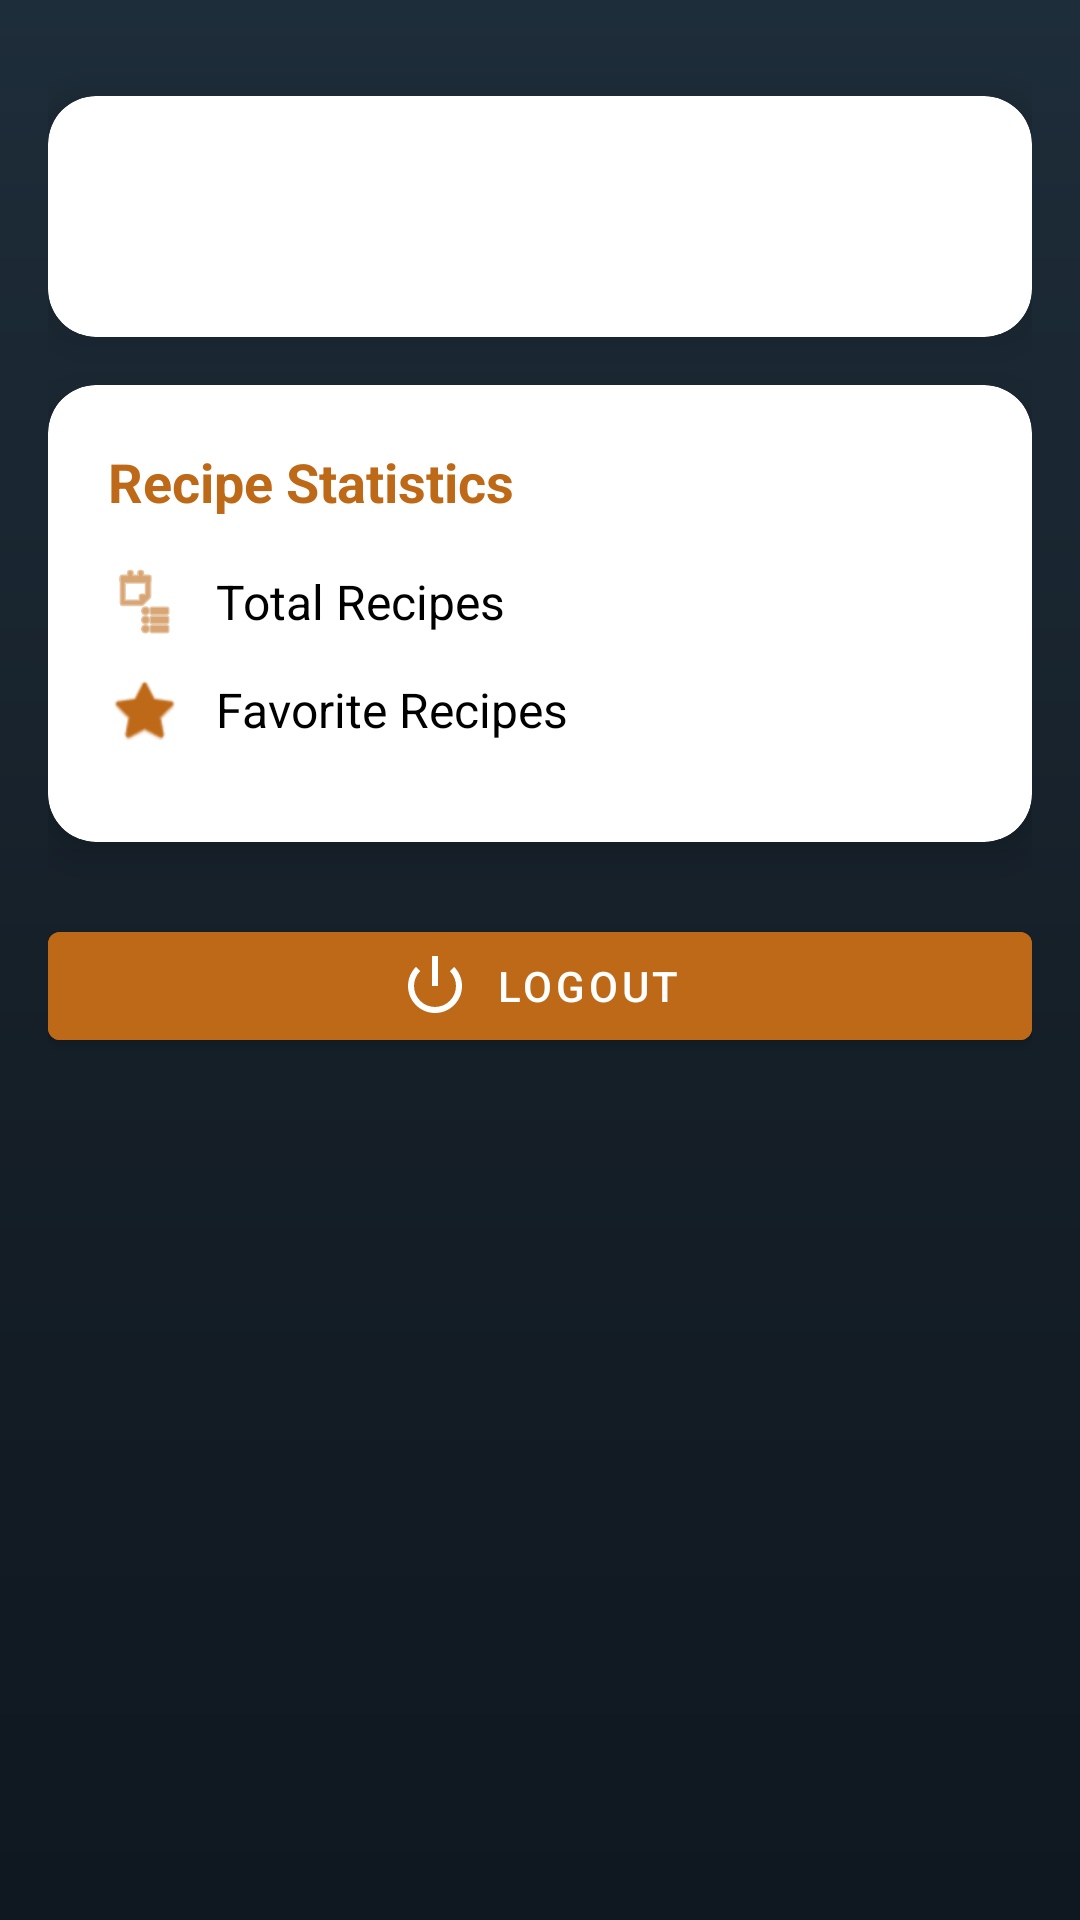

Screen size 1080w x 1920h. Icon name, then its box in pixels as region(x1, y1, x2, y2):
agenda: region(119, 570, 170, 634)
star on: region(115, 681, 175, 740)
